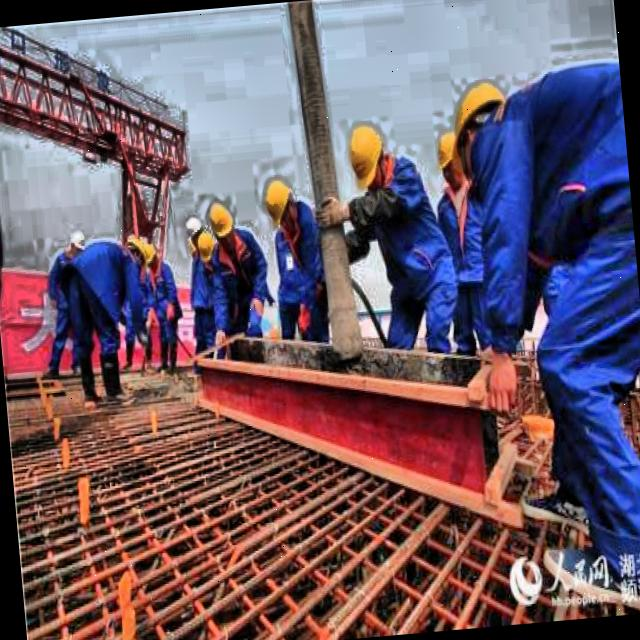helmet: (428, 104, 478, 206), (451, 80, 508, 158), (344, 113, 392, 197), (258, 169, 297, 235), (205, 195, 244, 252), (194, 230, 222, 270), (64, 230, 92, 266), (125, 234, 147, 274), (142, 240, 162, 274), (180, 216, 202, 244)
